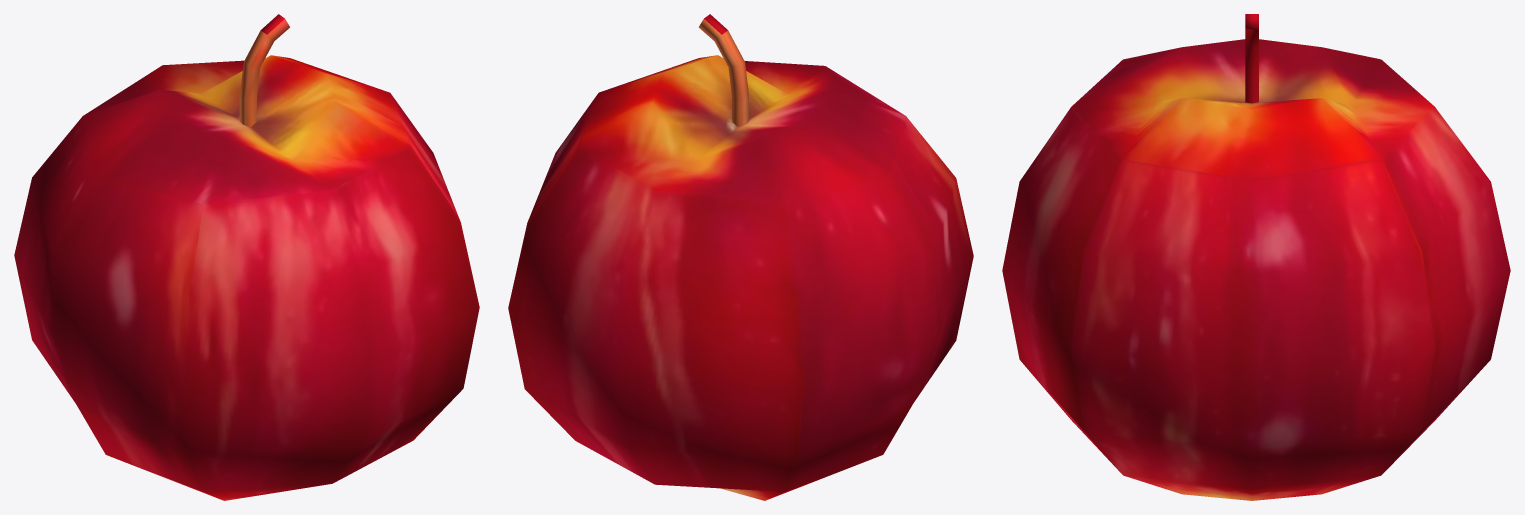
Rendered from red-apple.fbx.
3 views of the same model, side by side, from view 1: azimuth 30°, elevation 25°; view 2: azimuth 150°, elevation 25°; view 3: azimuth 270°, elevation 25° (orthographic). The views are drawn at different scales.
Visible parts, largest first — view 1: red-apple; view 2: red-apple; view 3: red-apple.
Boxes of the visible parts, x1=… form: red-apple: x1=14, y1=14, x2=479, y2=500; red-apple: x1=508, y1=14, x2=973, y2=500; red-apple: x1=1002, y1=14, x2=1510, y2=500.
Bounding box in the file's own units: 9.35 × 10.17 × 10.01.
